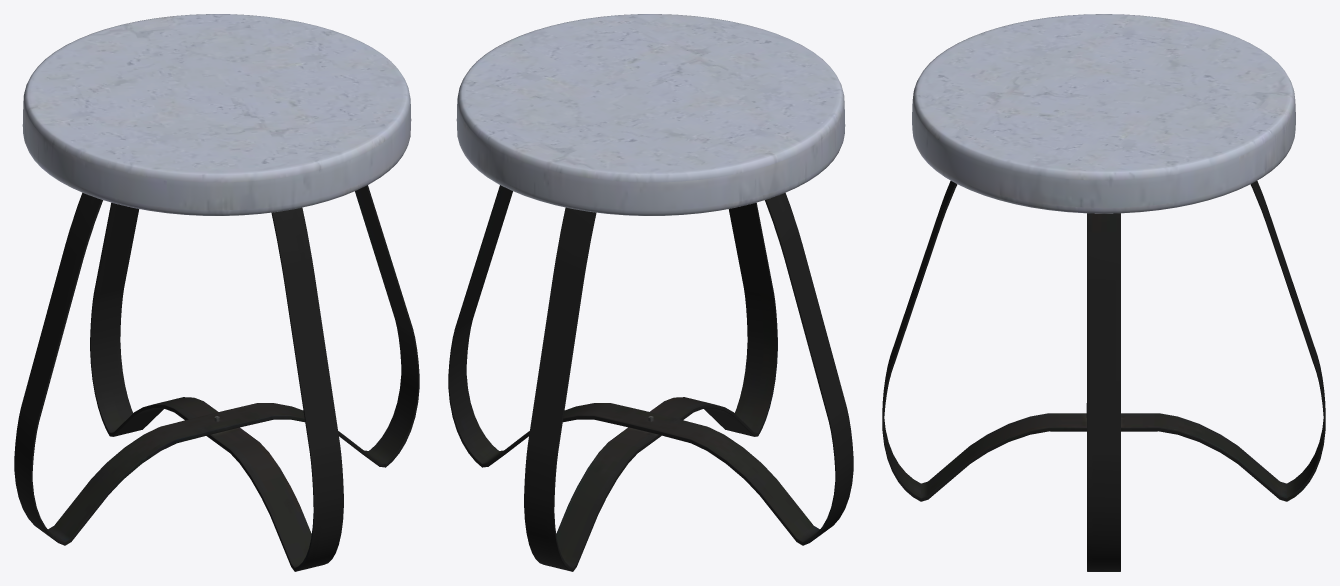
The model's file is ph-coffee-table-round-01.glb.
The picture shows the model from 3 angles, left to right: view 1: azimuth 30°, elevation 25°; view 2: azimuth 150°, elevation 25°; view 3: azimuth 270°, elevation 25°; orthographic projection.
Parts seen in each view (by area): view 1: coffee_table_round_01; view 2: coffee_table_round_01; view 3: coffee_table_round_01.
Boxes of the visible parts, x1,y1,x2,y2 form: coffee_table_round_01: (14, 14, 419, 571); coffee_table_round_01: (448, 14, 853, 571); coffee_table_round_01: (882, 14, 1325, 571).
Size of the model in its own units: 1 by 1 by 1.
Materials: 1 (1 with a texture image).
